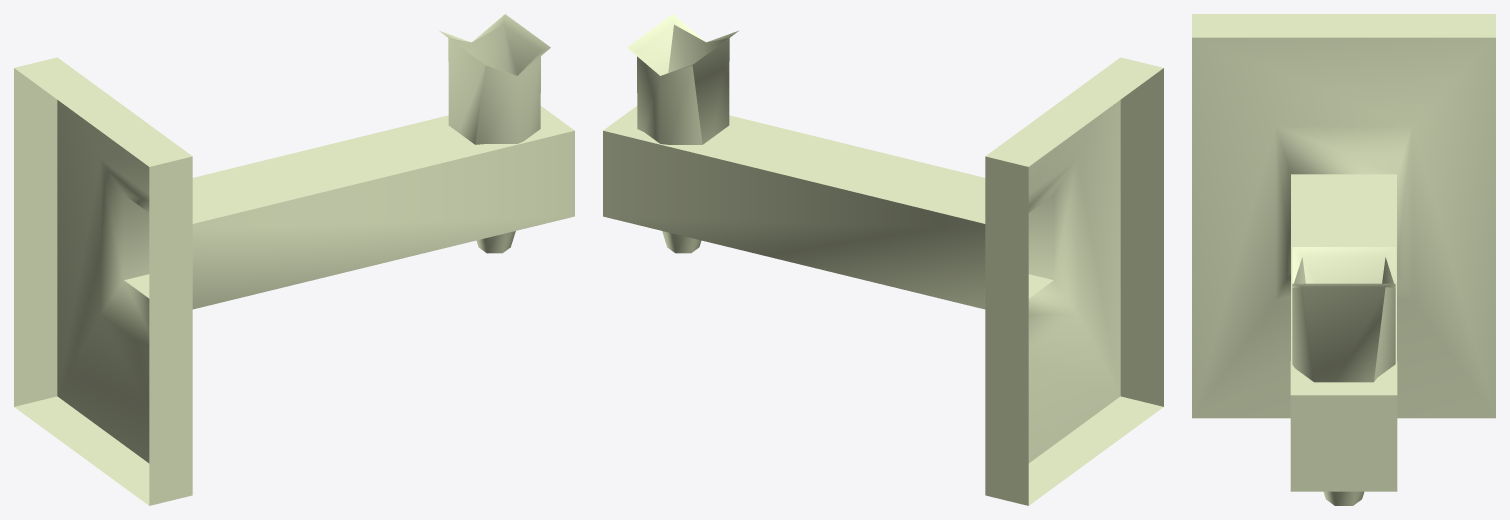
Rendered from CameraHolder.fbx.
3 renders of one model, left to right at view 1: azimuth 30°, elevation 25°; view 2: azimuth 150°, elevation 25°; view 3: azimuth 270°, elevation 25°, orthographic. The views are drawn at different scales.
Parts seen in each view (by area): view 1: Camholder; view 2: Camholder; view 3: Camholder.
Boxes of the visible parts, left/top/right/bottom form: Camholder: left=14, top=14, right=574, bottom=505; Camholder: left=603, top=14, right=1163, bottom=505; Camholder: left=1192, top=14, right=1495, bottom=505.
Size of the model in its own units: 0.1226 by 0.2457 by 0.1695.
